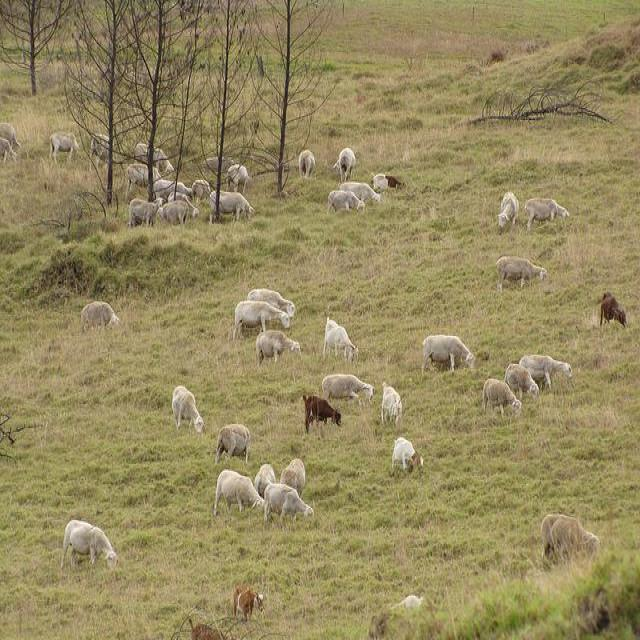Sheep: (3, 120, 573, 613), (61, 520, 118, 569), (264, 483, 316, 532), (323, 316, 358, 365), (172, 387, 205, 433)
